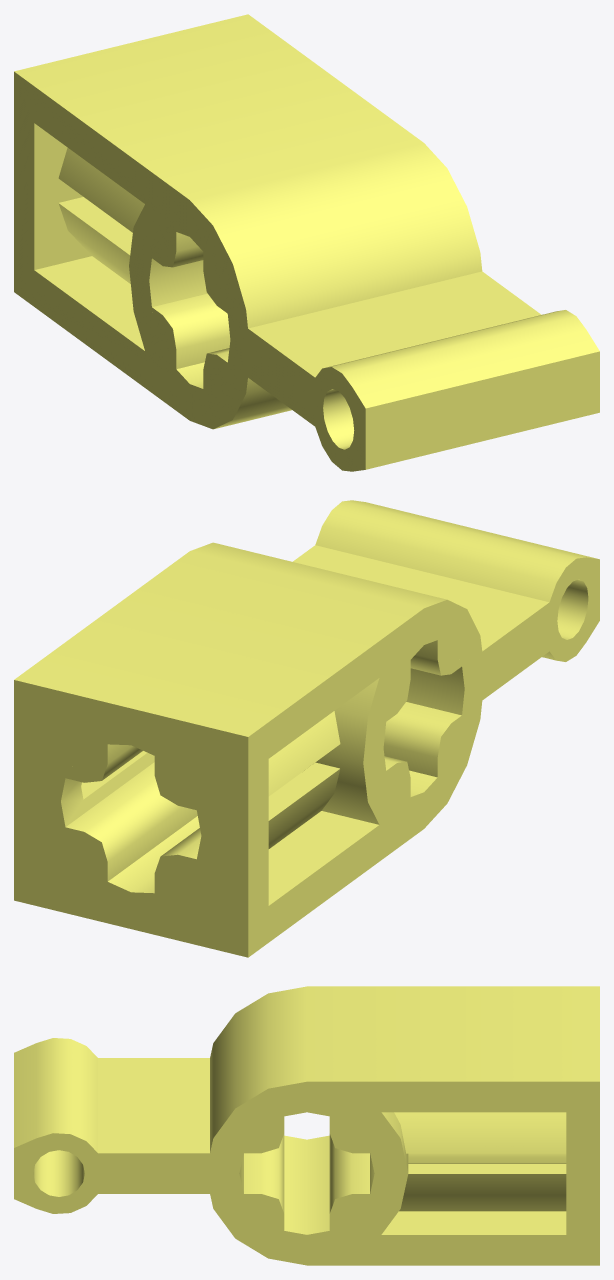
The picture shows the model from 3 angles, top to bottom: view 1: azimuth 30°, elevation 25°; view 2: azimuth 150°, elevation 25°; view 3: azimuth 270°, elevation 25°; orthographic projection. The views are drawn at different scales.
Parts seen in each view (by area): view 1: 6641.dat; view 2: 6641.dat; view 3: 6641.dat.
Boxes of the visible parts, box(x1,y1,x2,y2) form: 6641.dat: box(14, 14, 599, 471); 6641.dat: box(14, 500, 599, 957); 6641.dat: box(14, 986, 599, 1265).
Bounding box in the file's own units: 0.008 × 0.0072 × 0.0208.
